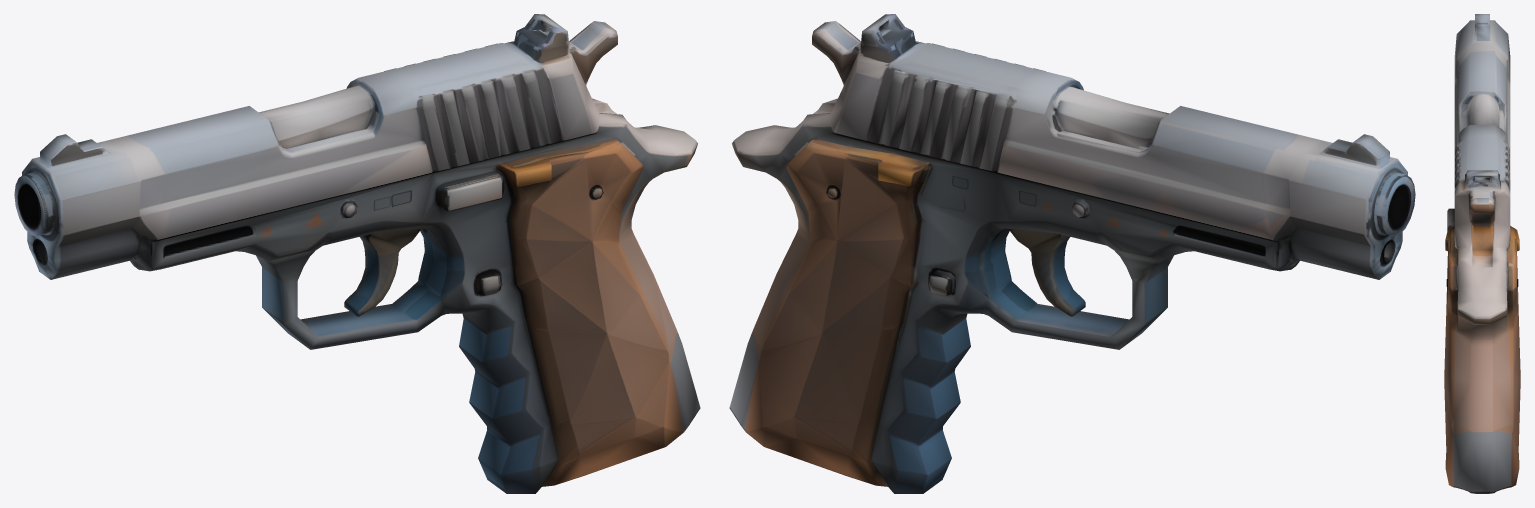
The model's file is pistol_body.glb.
3 views of the same model, side by side, from view 1: azimuth 30°, elevation 25°; view 2: azimuth 150°, elevation 25°; view 3: azimuth 270°, elevation 25° (orthographic). The views are drawn at different scales.
Parts seen in each view (by area): view 1: material; view 2: material; view 3: material.
Boxes of the visible parts, box(x1,y1,x2,y2) form: material: box(14, 14, 700, 493); material: box(729, 14, 1415, 493); material: box(1444, 14, 1520, 493).
Bounding box in the file's own units: 1.9 × 1.25 × 0.2871.
Materials: 1 (1 with a texture image).
